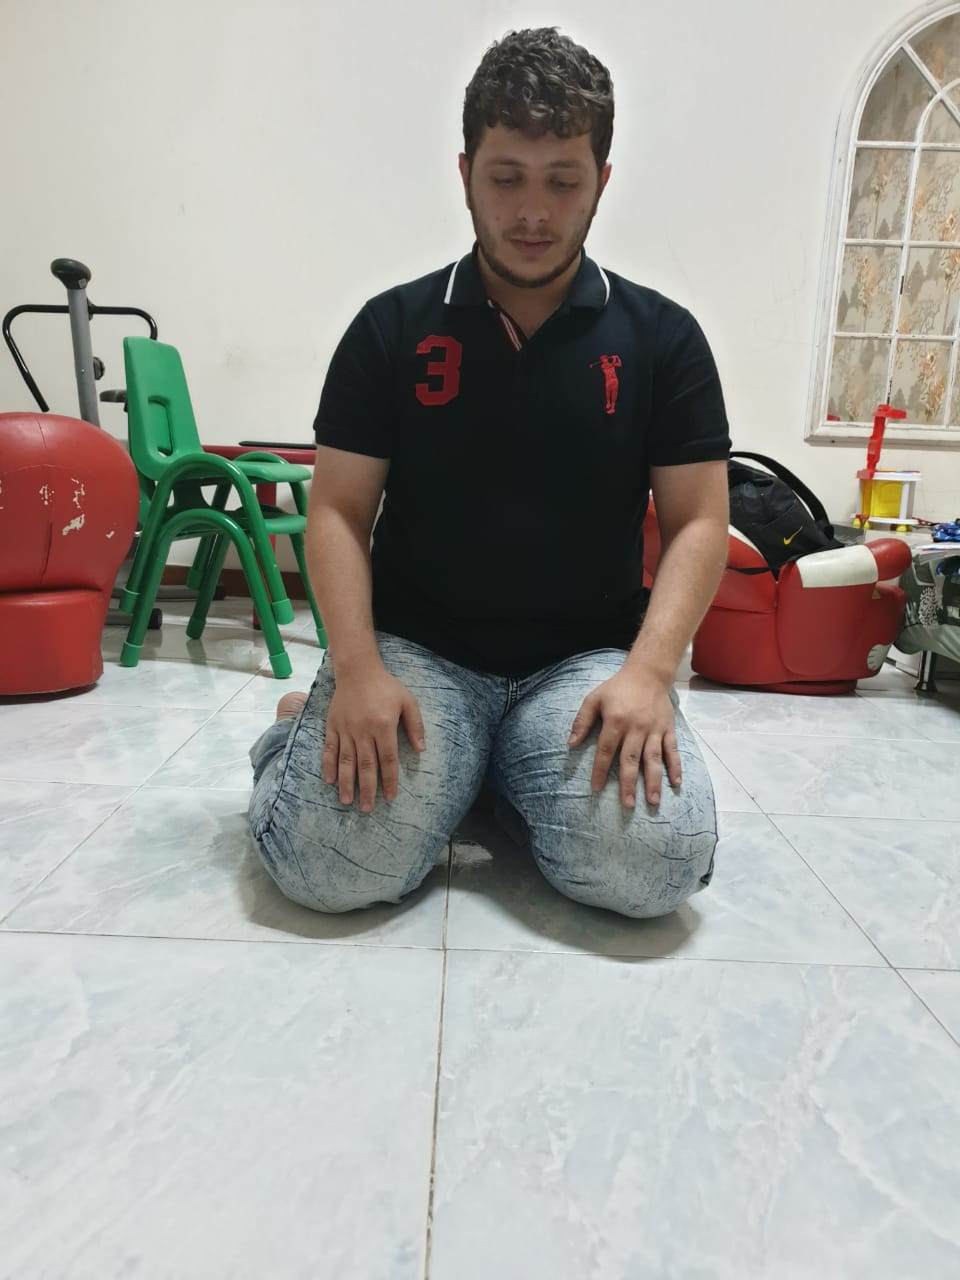sitting: (234, 5, 753, 974)
